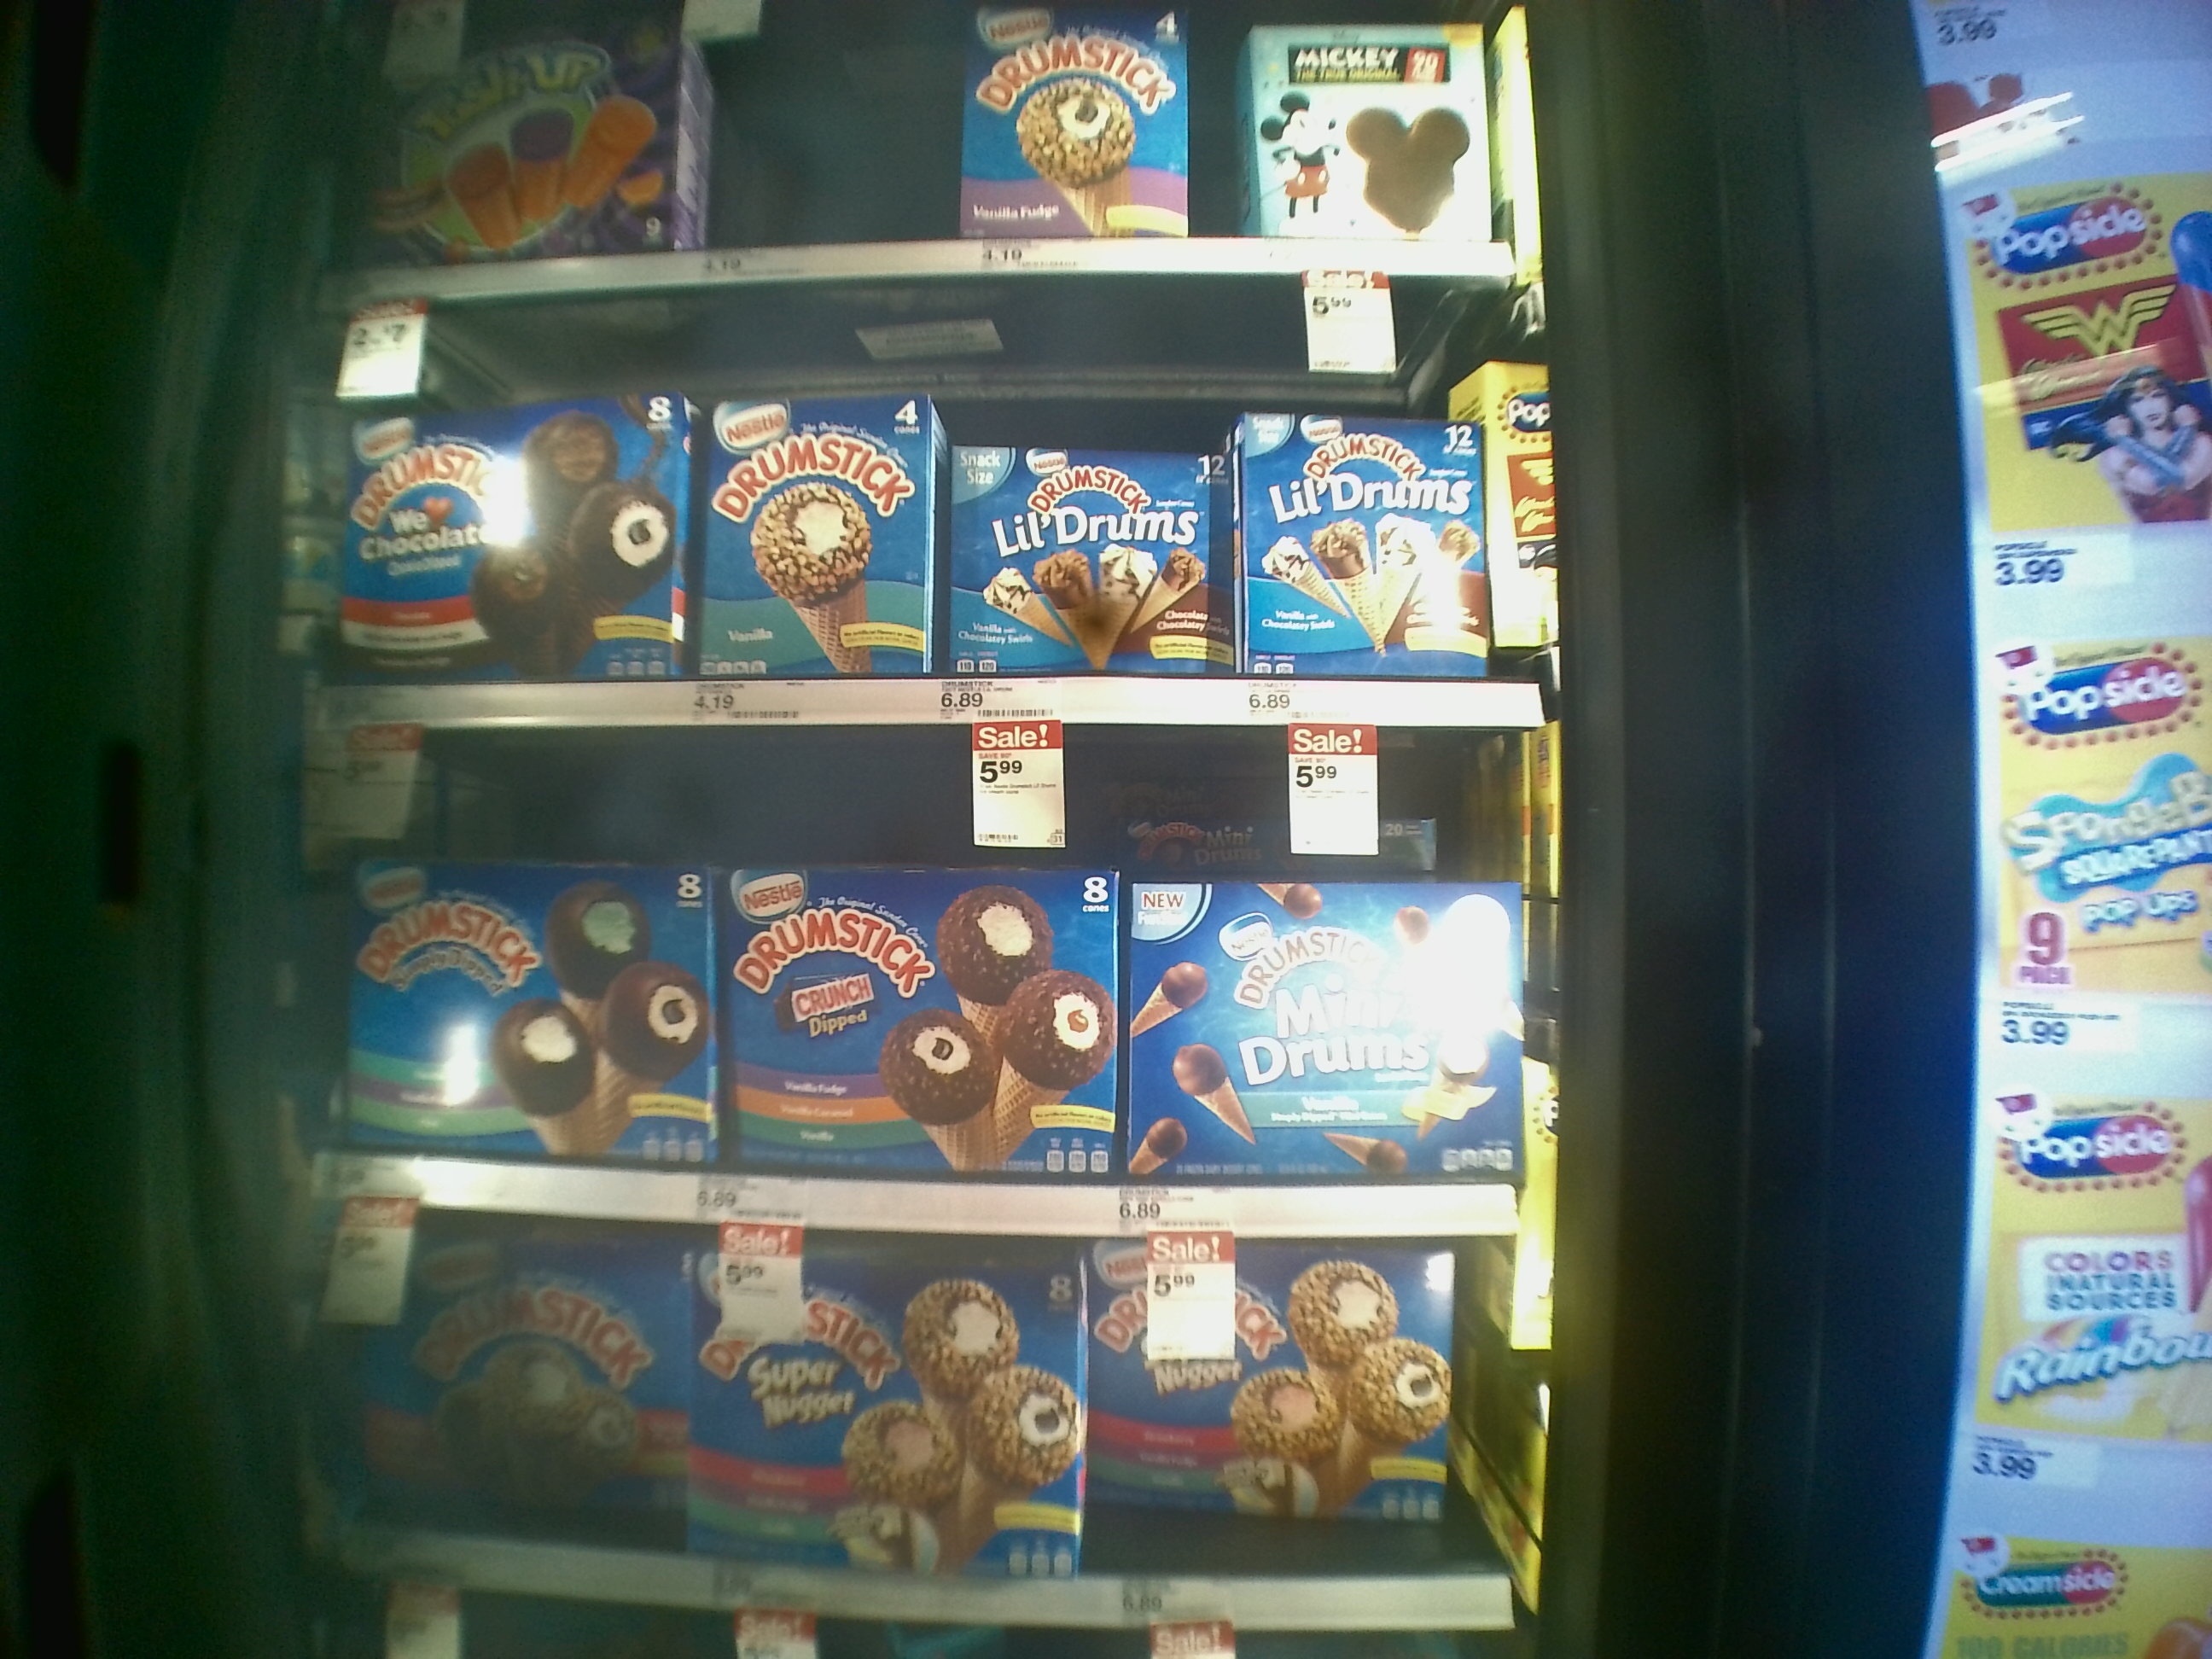ice-cream-shelf: (319, 716, 1547, 1229), (308, 282, 1555, 721)
